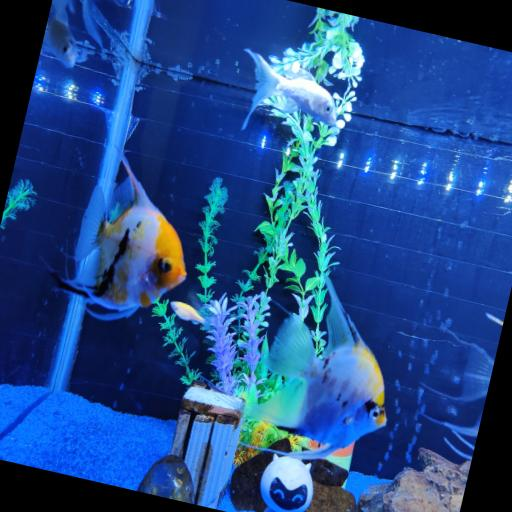Fish: (244, 279, 386, 458), (53, 156, 186, 320), (242, 49, 336, 130), (422, 331, 494, 403), (43, 0, 85, 67), (43, 17, 80, 68), (171, 301, 209, 326), (486, 313, 502, 326)
